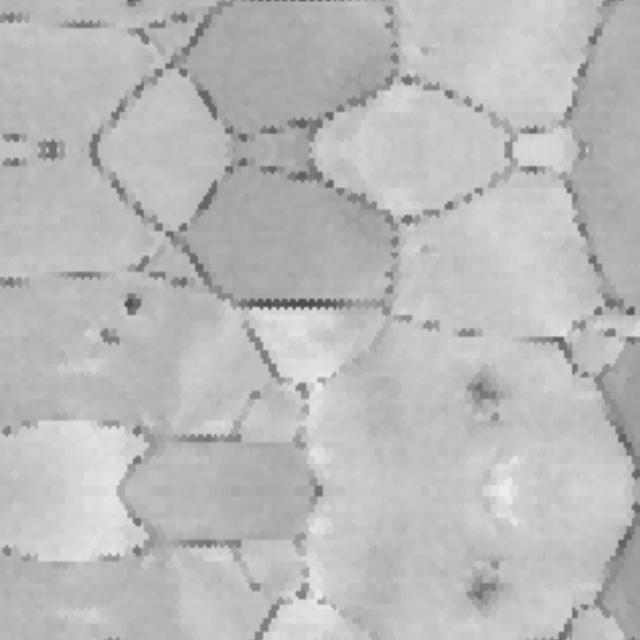good_void: (236, 293, 356, 316), (463, 558, 504, 609), (463, 373, 504, 423), (98, 326, 127, 350), (121, 292, 146, 318), (42, 149, 64, 159), (42, 139, 64, 149), (100, 632, 124, 640)
